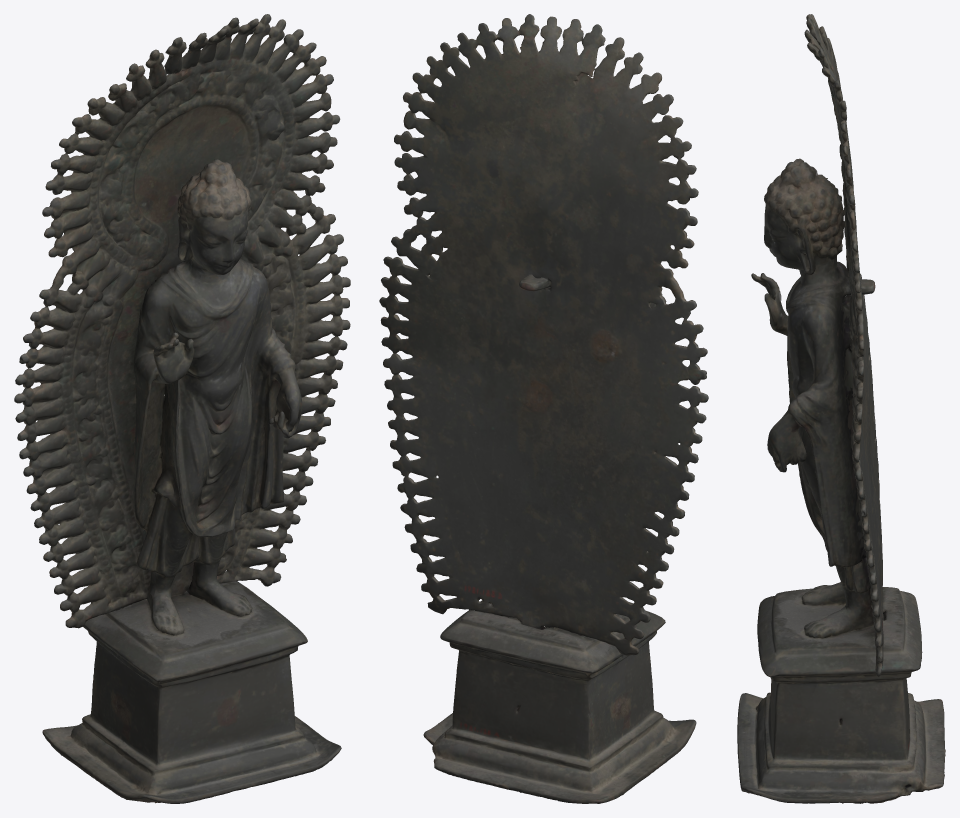
The model's file is preview.glb.
3 renders of one model, left to right at view 1: azimuth 30°, elevation 25°; view 2: azimuth 150°, elevation 25°; view 3: azimuth 270°, elevation 25°, orthographic.
Visible parts, largest first — view 1: ADVIMG_1981_188ab_StandingBuddha_ReTextured_n3d; view 2: ADVIMG_1981_188ab_StandingBuddha_ReTextured_n3d; view 3: ADVIMG_1981_188ab_StandingBuddha_ReTextured_n3d.
Part boxes in pixels (<box>): ADVIMG_1981_188ab_StandingBuddha_ReTextured_n3d: <box>14,14,350,803</box>; ADVIMG_1981_188ab_StandingBuddha_ReTextured_n3d: <box>379,14,708,803</box>; ADVIMG_1981_188ab_StandingBuddha_ReTextured_n3d: <box>737,14,945,803</box>.
Size of the model in its own units: 0.1594 by 0.3348 by 0.0874.
Materials: 1 (1 with a texture image).
